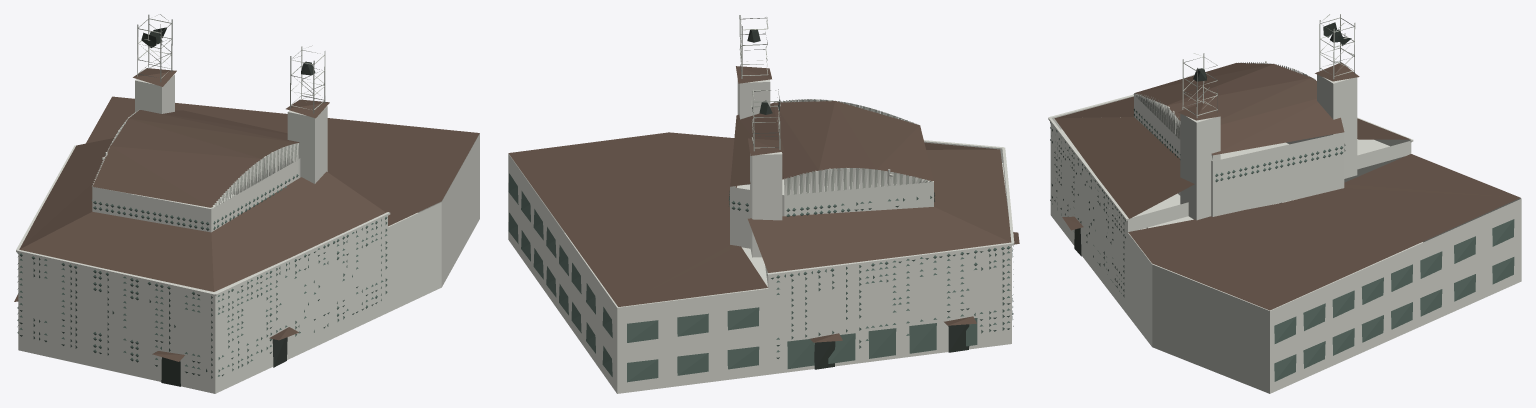
The model's file is podium-mozaiek.lod1.glb.
The picture shows the model from 3 angles, left to right: view 1: azimuth 30°, elevation 25°; view 2: azimuth 150°, elevation 25°; view 3: azimuth 270°, elevation 25°; orthographic projection. The views are drawn at different scales.
Parts seen in each view (by area): view 1: podium-mozaiek; view 2: podium-mozaiek; view 3: podium-mozaiek.
Part boxes in pixels (box(x1,y1,x2,y2)): podium-mozaiek: box(14, 14, 479, 393); podium-mozaiek: box(508, 15, 1019, 393); podium-mozaiek: box(1048, 14, 1521, 393).
Bounding box in the file's own units: 45.53 × 22.13 × 39.86.
